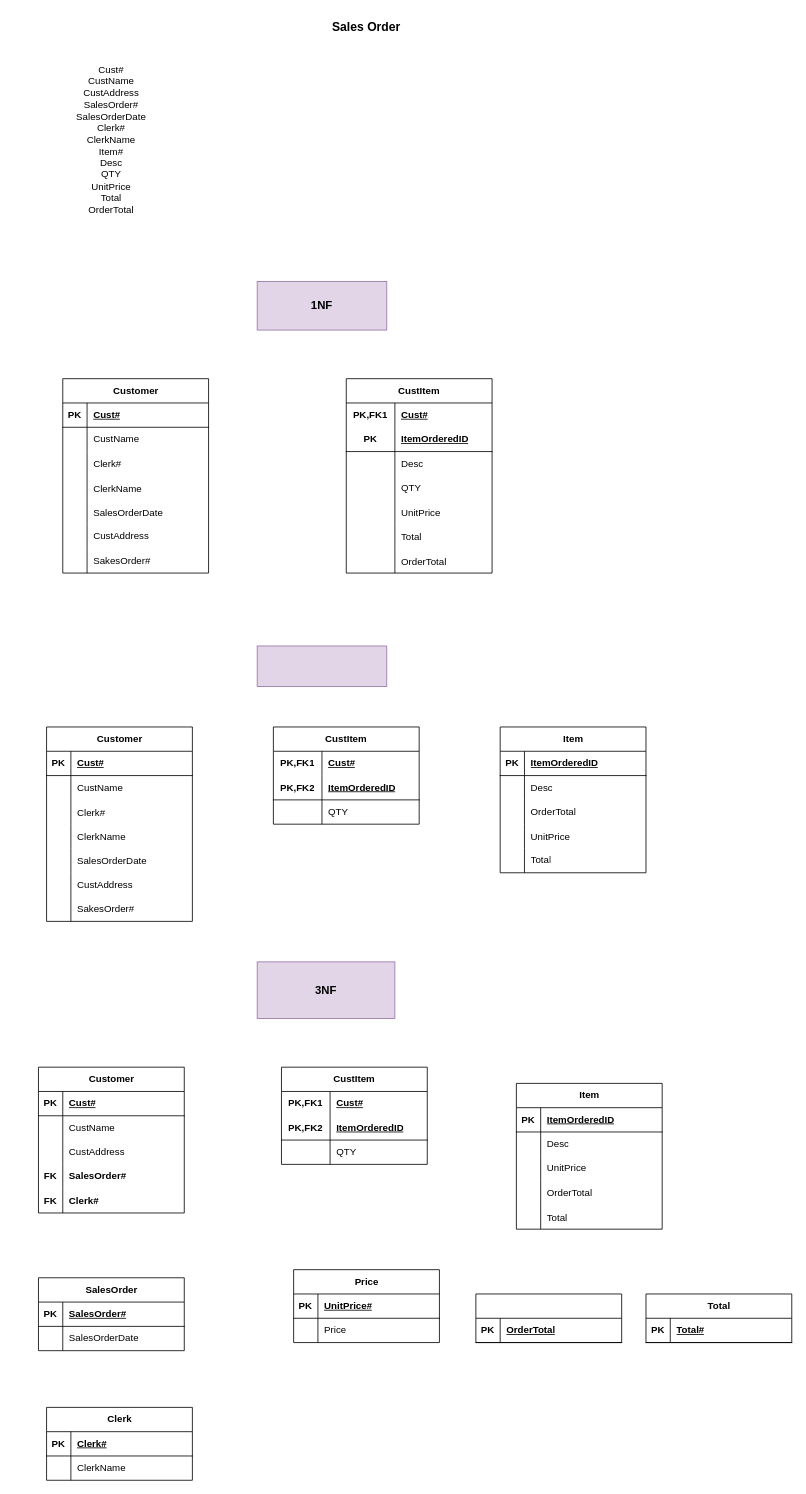
The diagram is 806 pixels wide and 1494 high, and some of its shapes have lost their labels. The box of each missing label's shape, as (x1, y1, x2, y2) in pixels:
2NF: (256, 645, 387, 686)
TotalOrder: (475, 1293, 622, 1343)
